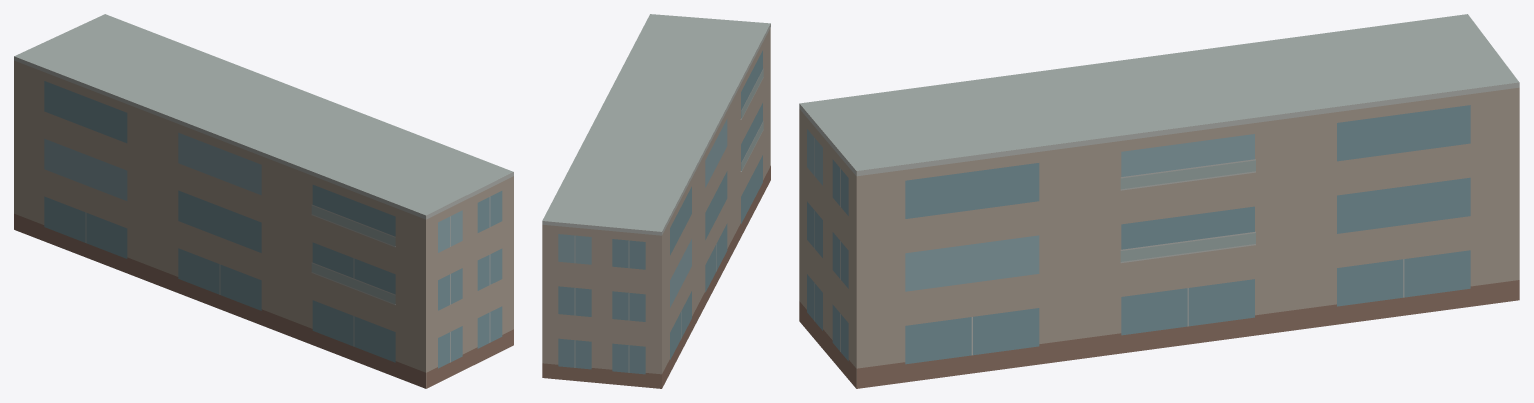
The model's file is survey-upis-32629852.glb.
The picture shows the model from 3 angles, left to right: view 1: azimuth 30°, elevation 25°; view 2: azimuth 150°, elevation 25°; view 3: azimuth 270°, elevation 25°; orthographic projection. The views are drawn at different scales.
Visible parts, largest first — view 1: survey-upis-32629852.tmp; view 2: survey-upis-32629852.tmp; view 3: survey-upis-32629852.tmp.
Part boxes in pixels (x1,y1,x2,y2): survey-upis-32629852.tmp: (14,14,513,388); survey-upis-32629852.tmp: (542,14,770,388); survey-upis-32629852.tmp: (799,14,1519,388).
Bounding box in the file's own units: 15.79 × 10.2 × 30.58.
